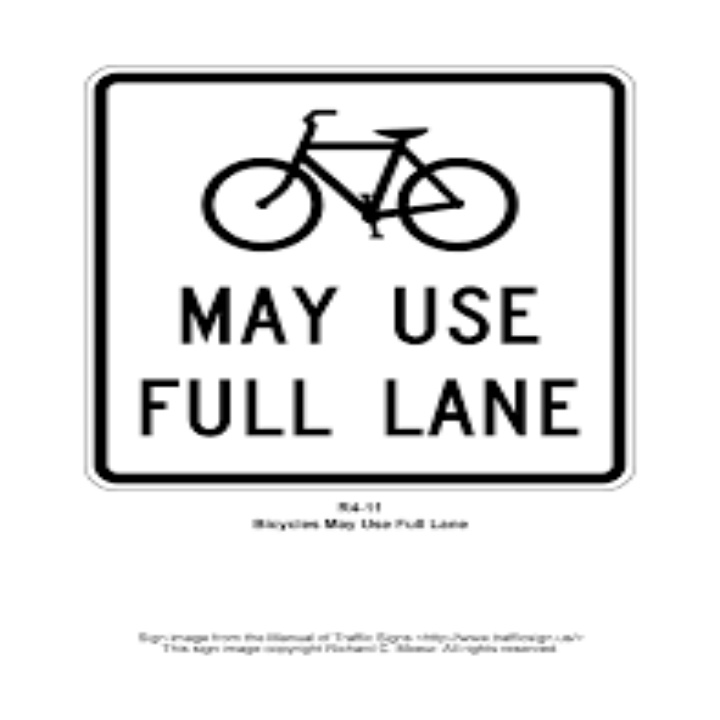bicycle: (201, 25, 518, 342)
